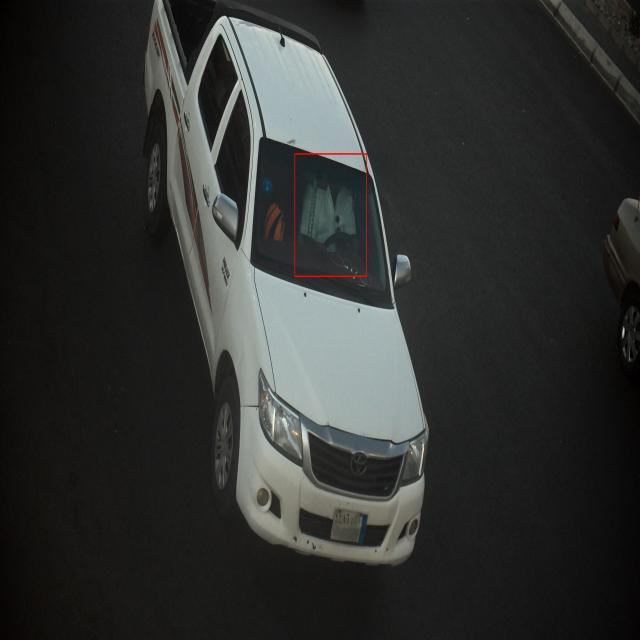windshield: (251, 131, 394, 312)
